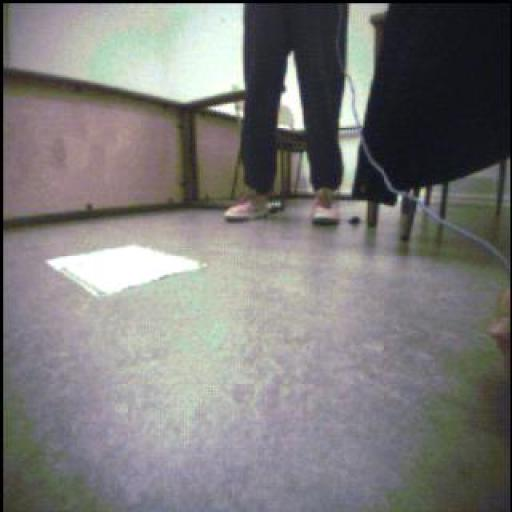Pad: (48, 246, 208, 297)
